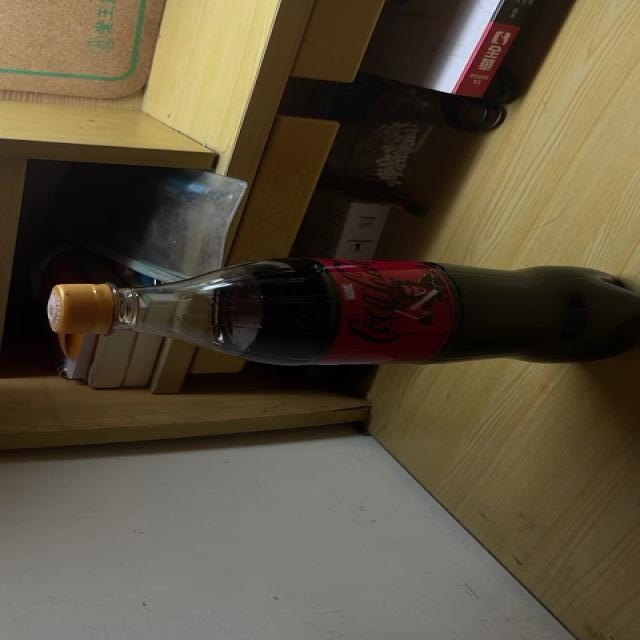Coca-Cola: (47, 258, 635, 366)
